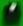black: (0, 0, 23, 26)
